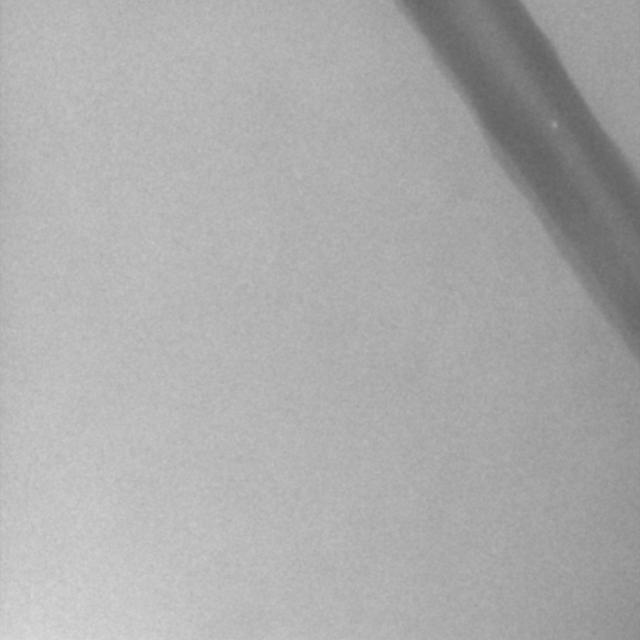air-hole: (550, 118, 559, 130)
